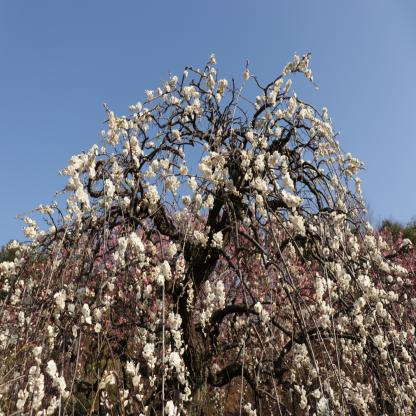Ume: (1, 48, 416, 416)
